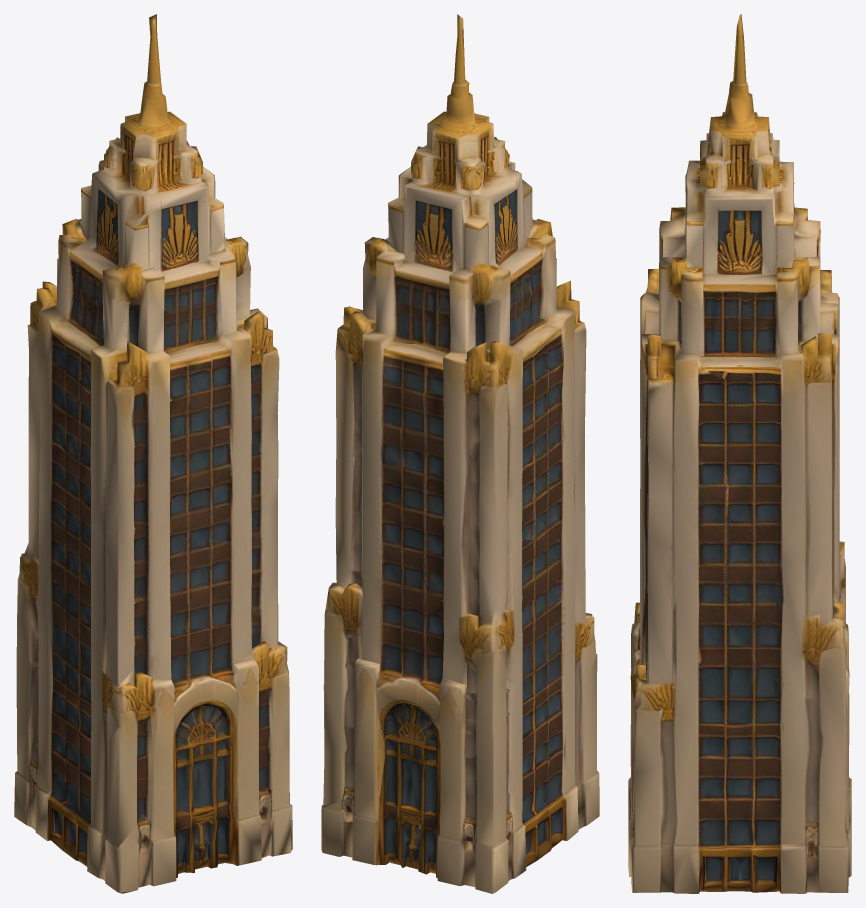
Rendered from city-deco-tower.glb.
3 renders of one model, left to right at view 1: azimuth 30°, elevation 25°; view 2: azimuth 150°, elevation 25°; view 3: azimuth 270°, elevation 25°, orthographic. The views are drawn at different scales.
Visible parts, largest first — view 1: city-deco-tower; view 2: city-deco-tower; view 3: city-deco-tower.
Part boxes in pixels (x1,y1,x2,y2): city-deco-tower: (14,14,292,893); city-deco-tower: (321,14,599,893); city-deco-tower: (628,14,851,893).
Size of the model in its own units: 8.97 by 40 by 9.67.
Materials: 1 (1 with a texture image).
